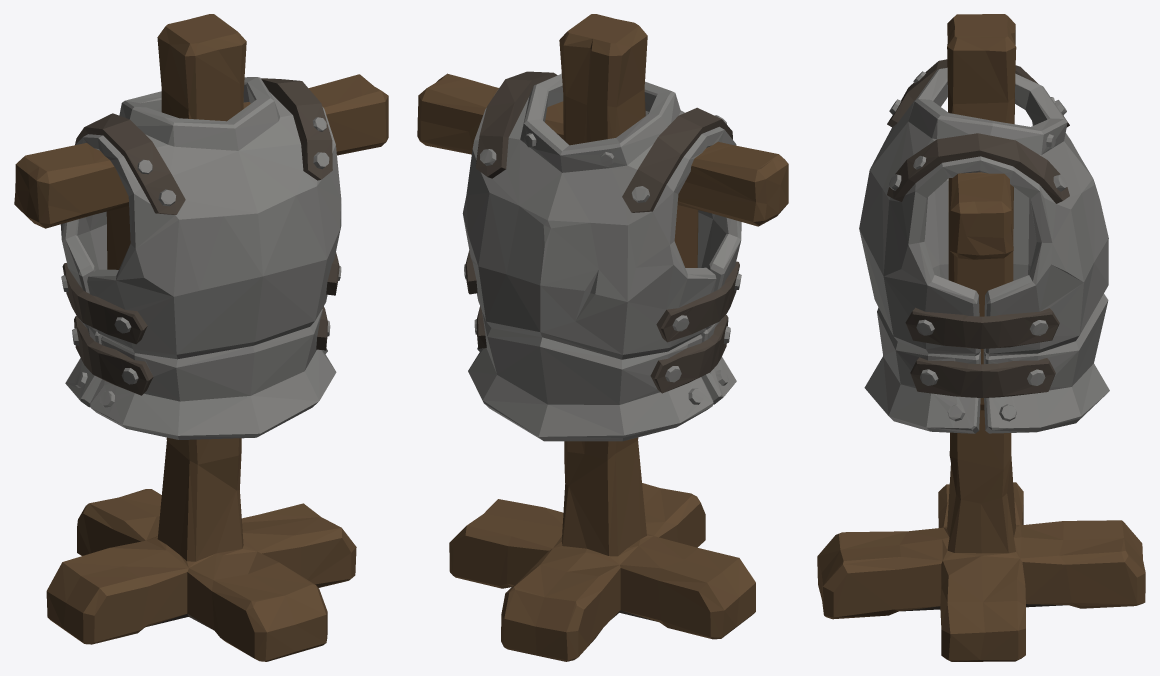
The model's file is BreastplateArmorStand.fbx.
The picture shows the model from 3 angles, left to right: view 1: azimuth 30°, elevation 25°; view 2: azimuth 150°, elevation 25°; view 3: azimuth 270°, elevation 25°; orthographic projection.
Parts seen in each view (by area): view 1: BreastplateArmorStand; view 2: BreastplateArmorStand; view 3: BreastplateArmorStand.
Part boxes in pixels (x1,y1,x2,y2): BreastplateArmorStand: (14, 14, 388, 661); BreastplateArmorStand: (417, 14, 788, 661); BreastplateArmorStand: (817, 14, 1145, 661).
Bounding box in the file's own units: 0.8084 × 0.6522 × 1.25.
